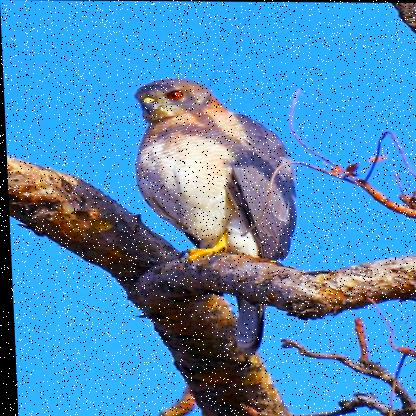Burung: (132, 78, 301, 356)
